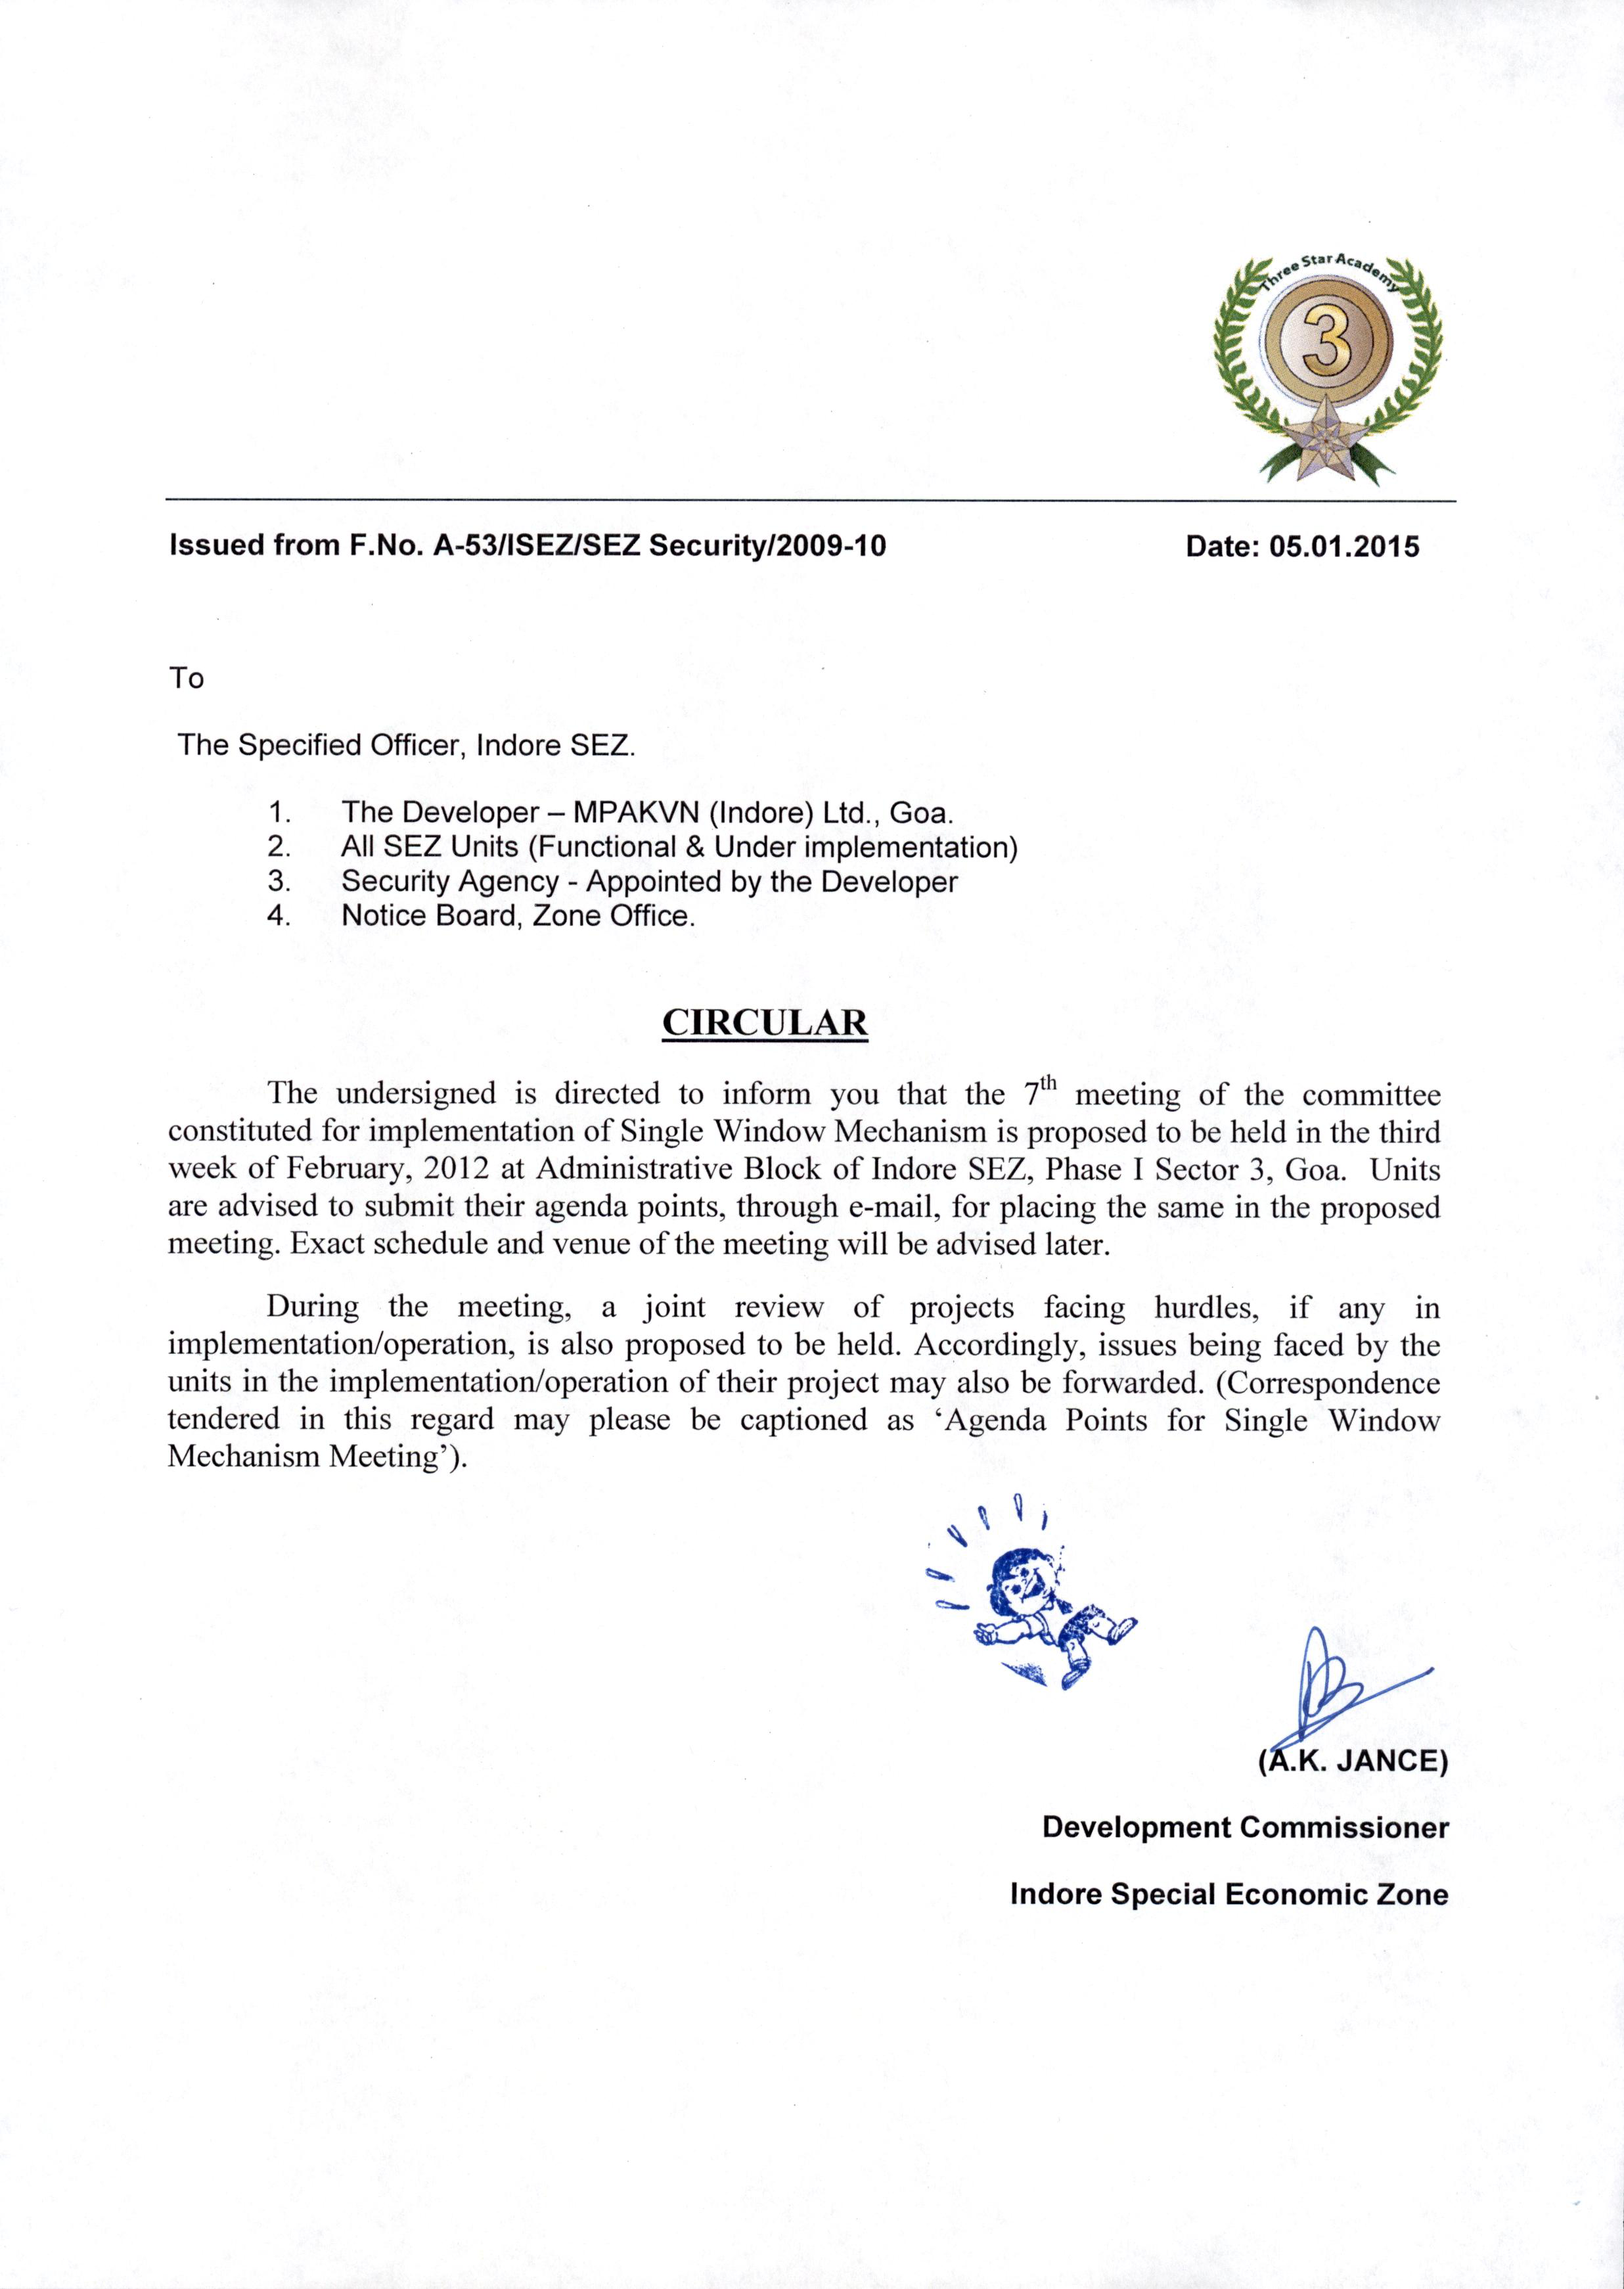Signature: (1264, 1617, 1445, 1751)
